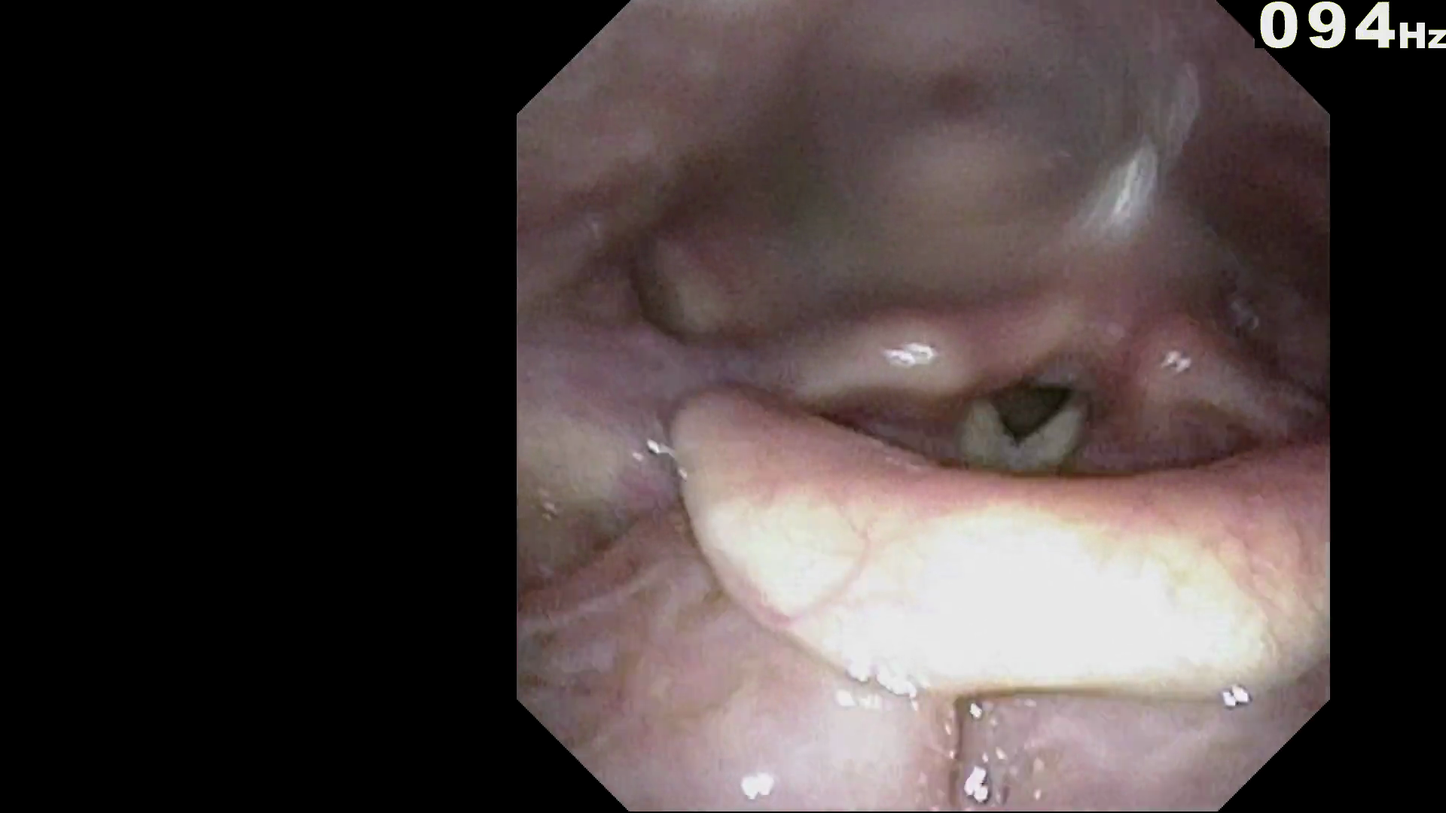epiglottis: (702, 461, 1311, 685)
